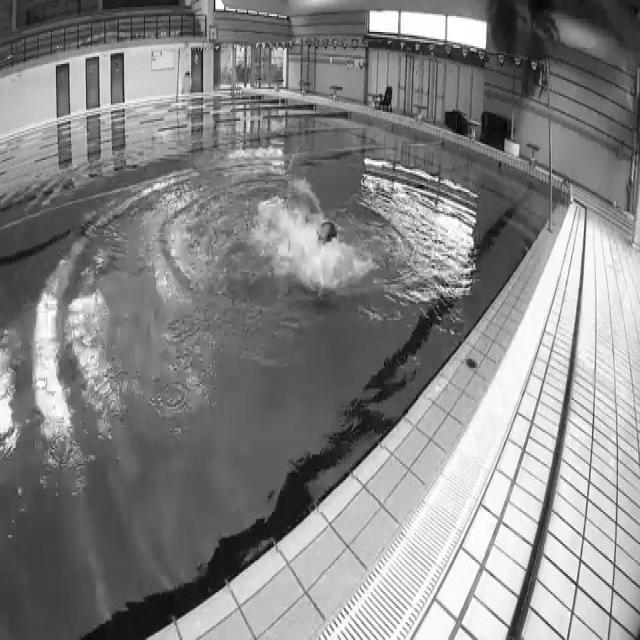Drowning: (281, 177, 355, 322)
